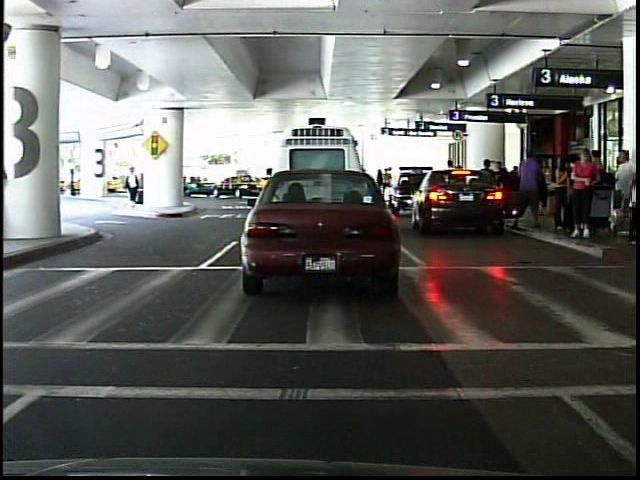person: (567, 145, 604, 245), (120, 160, 150, 210), (66, 163, 82, 202)
